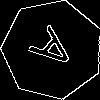A: (27, 25, 85, 80)
